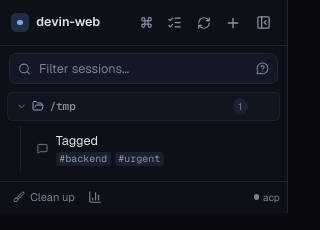
Scenario: SessionSidebar › renders tag chips and matches them in the filter
The image size is (320, 230).
Expected: the text "#backend" is shown, left=56, top=152, right=111, bottom=166
Expected: the text "#urgent" is shown, left=115, top=152, right=164, bottom=166
// tag text is searchable through the session filter
Type "urgent" into the field with placeholder "Filter sessions…" at (144, 69), box left=9, top=53, right=278, bottom=84
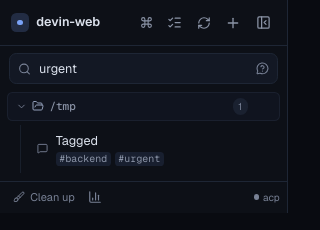
Expected: the link "Tagged" is shown, left=56, top=132, right=98, bottom=149
Replace the text in the field with placeholder "Filter sessions…" with "zzz" at (144, 69), box left=9, top=53, right=278, bottom=84
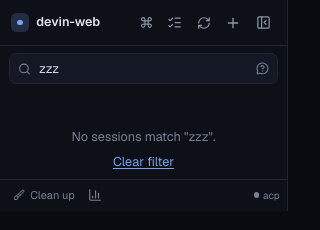
Expected: the link "Tagged" is gone
